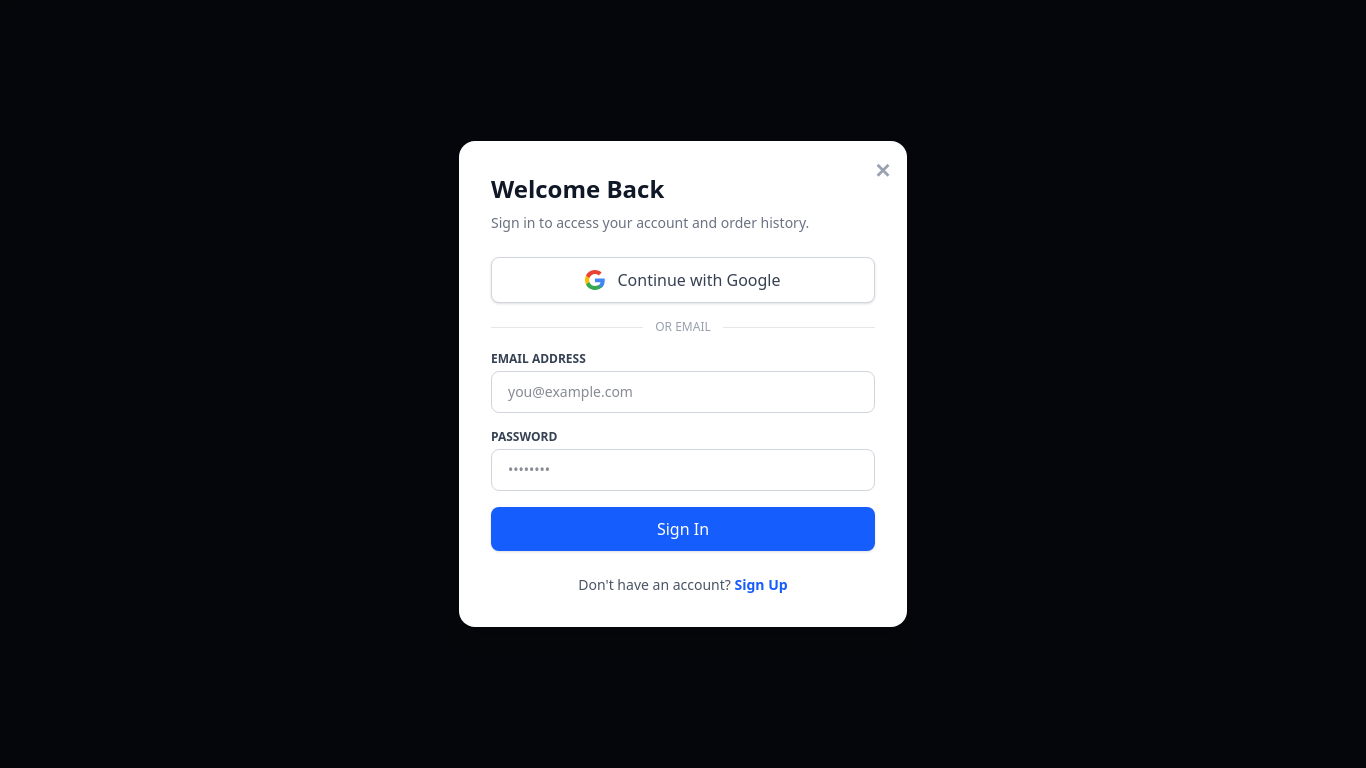
Test: [P1] AuthModal Component › displays an error message if authentication fails
The image size is (1366, 768).
In the field with placeholder "you@example.com": (683, 392) [491,371,875,413], type "wrong@example.com"
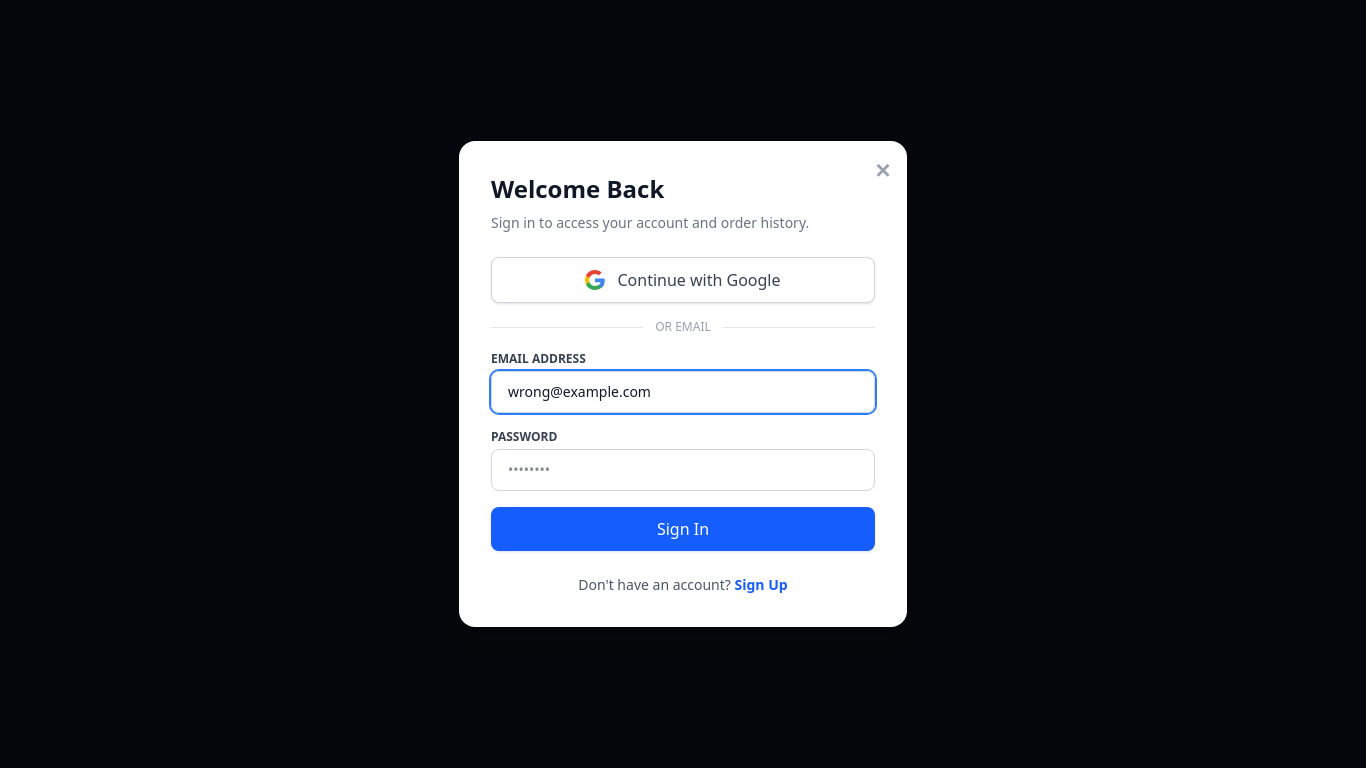
In the password field with placeholder "••••••••": (683, 470) [491,449,875,491], type "wrongpass"
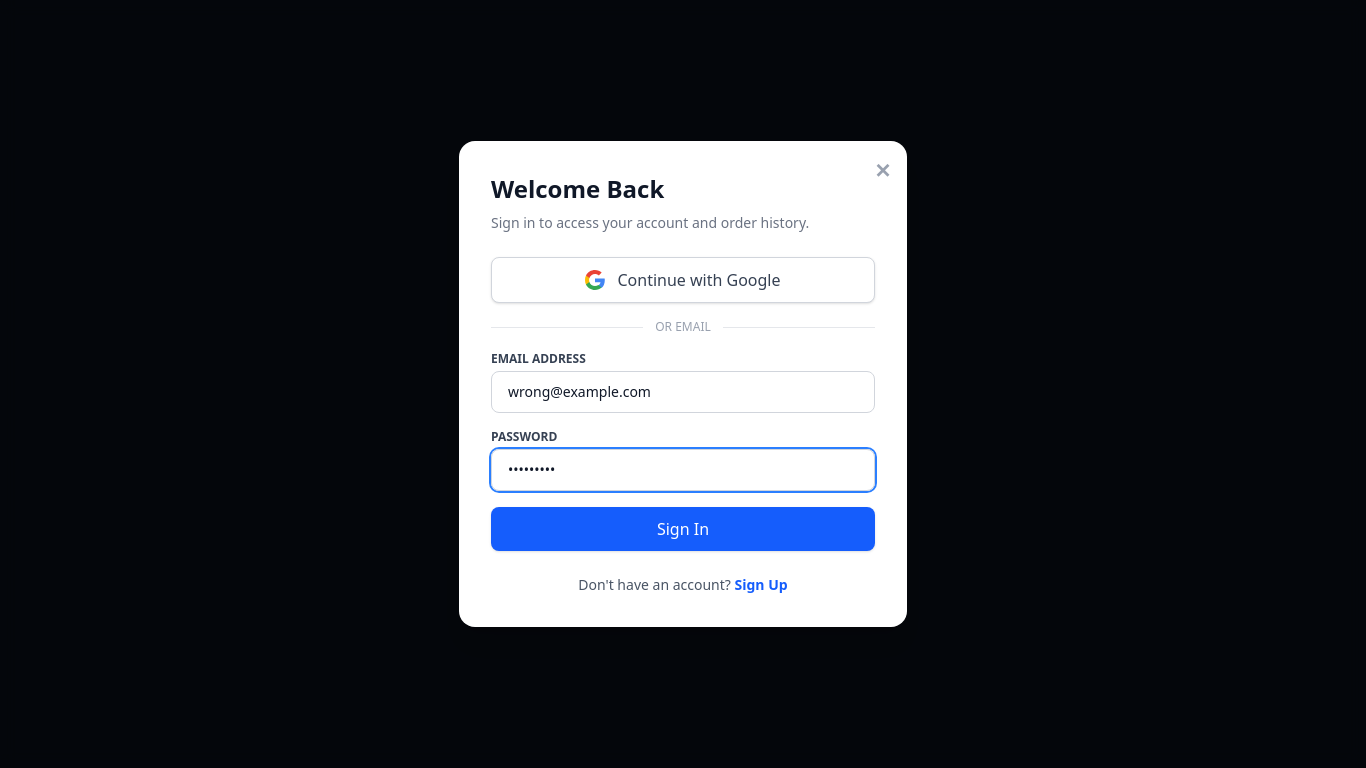
Click the button "Sign In": (683, 529) [491,507,875,551]
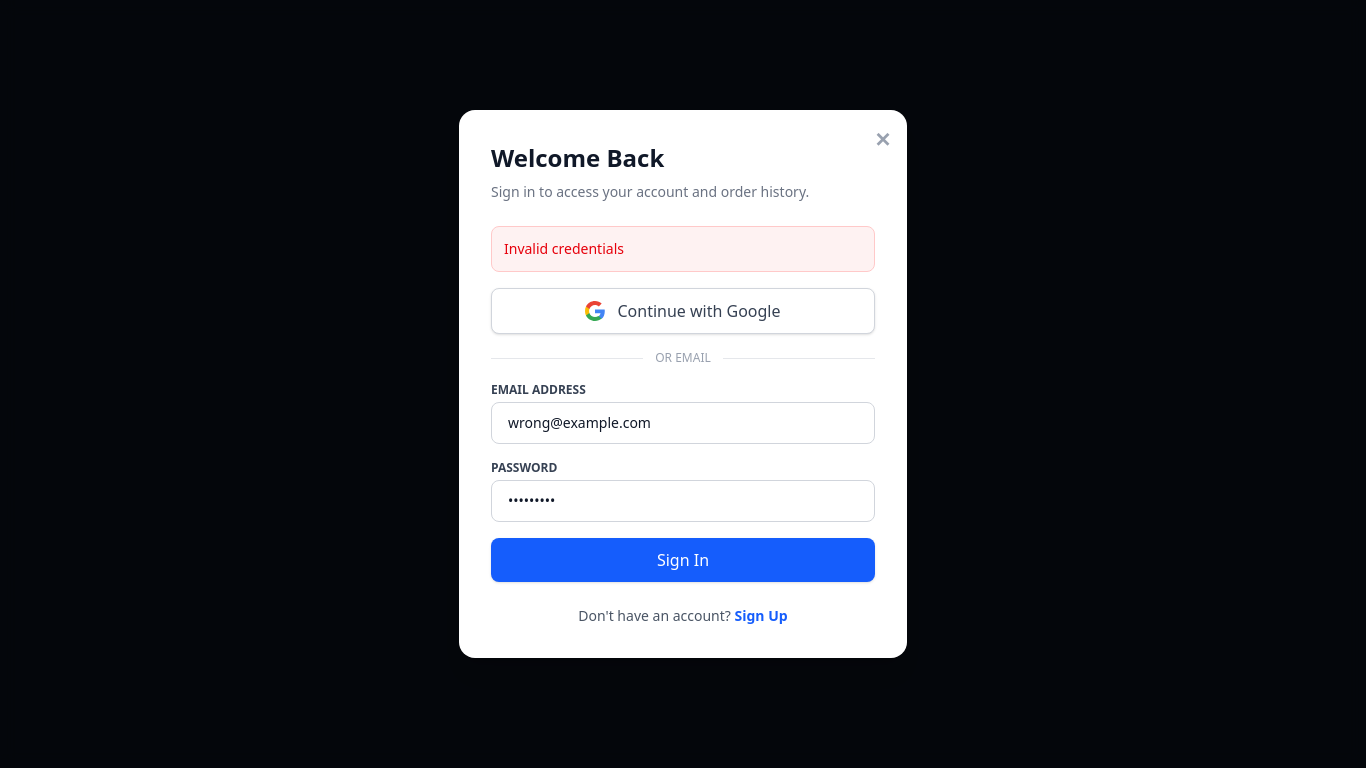
Now the text "Invalid credentials" is shown, box [491,226,875,272]
